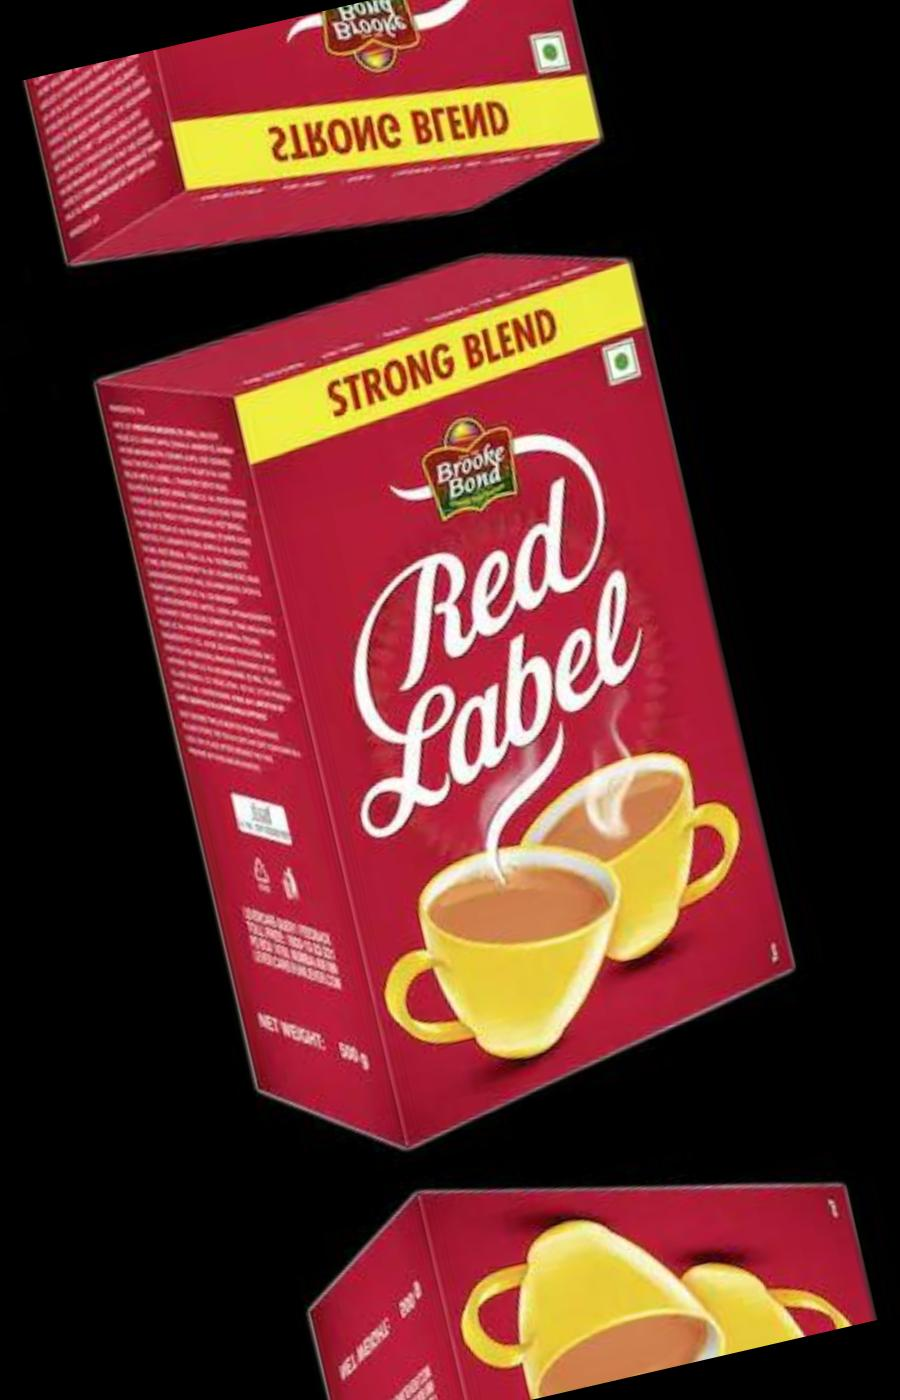Brooke Bond Red Label Leaf Tea 500 g: (72, 215, 823, 1184), (11, 0, 621, 309), (276, 1094, 884, 1400)
